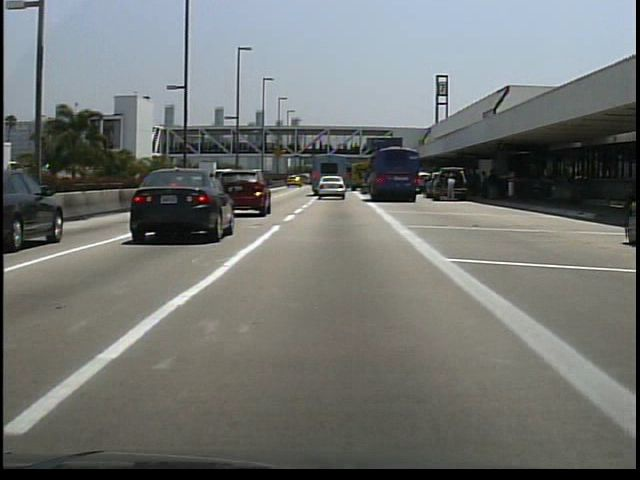person: (484, 167, 500, 205), (444, 175, 457, 204)
